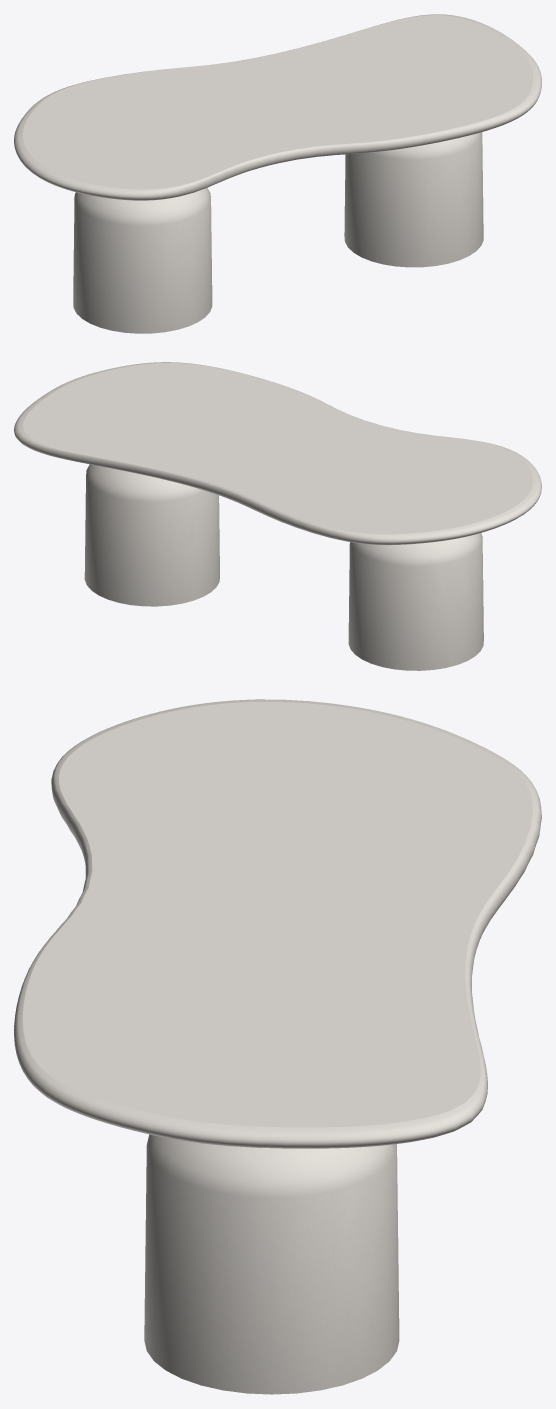
Rendered from pearlwhite_wave_round_tornado.glb.
3 views of the same model, one above another, from view 1: azimuth 30°, elevation 25°; view 2: azimuth 150°, elevation 25°; view 3: azimuth 270°, elevation 25° (orthographic). The views are drawn at different scales.
Visible parts, largest first — view 1: round_wave, tornado; view 2: round_wave, tornado; view 3: round_wave, tornado.
Part boxes in pixels (x1=…): round_wave: x1=14, y1=14, x2=541, y2=200; tornado: x1=73, y1=132, x2=483, y2=333; round_wave: x1=14, y1=362, x2=541, y2=545; tornado: x1=84, y1=464, x2=483, y2=670; round_wave: x1=14, y1=699, x2=541, y2=1148; tornado: x1=144, y1=1134, x2=399, y2=1394.
Bounding box in the file's own units: 7.76 × 2.5 × 3.93.
1 material, 1 textured.
